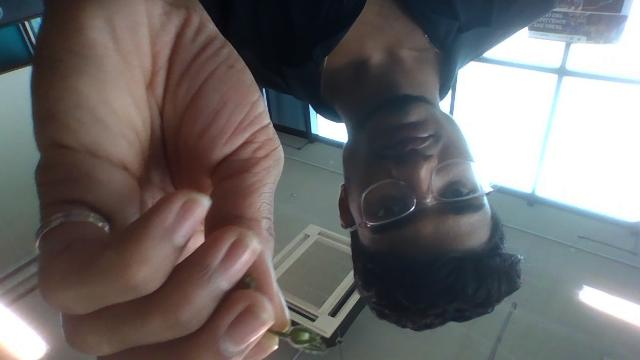Fruit Bud: (289, 326, 314, 351), (290, 328, 311, 344)
